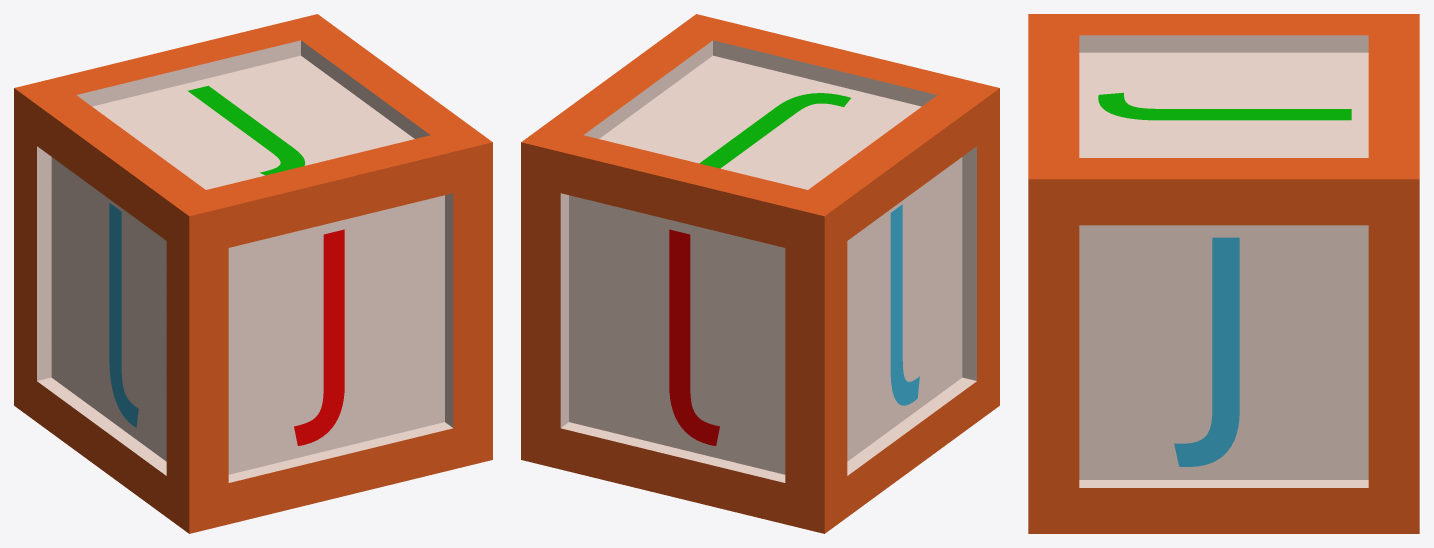
The model's file is Prop_KidsCube_J.fbx.
3 renders of one model, left to right at view 1: azimuth 30°, elevation 25°; view 2: azimuth 150°, elevation 25°; view 3: azimuth 270°, elevation 25°, orthographic. The views are drawn at different scales.
Parts seen in each view (by area): view 1: Prop_KidsCube_J; view 2: Prop_KidsCube_J; view 3: Prop_KidsCube_J.
Boxes of the visible parts, box(x1,y1,x2,y2) form: Prop_KidsCube_J: box(14, 14, 492, 533); Prop_KidsCube_J: box(521, 14, 999, 533); Prop_KidsCube_J: box(1028, 14, 1419, 533).
Size of the model in its own units: 20.93 by 20.93 by 20.93.
